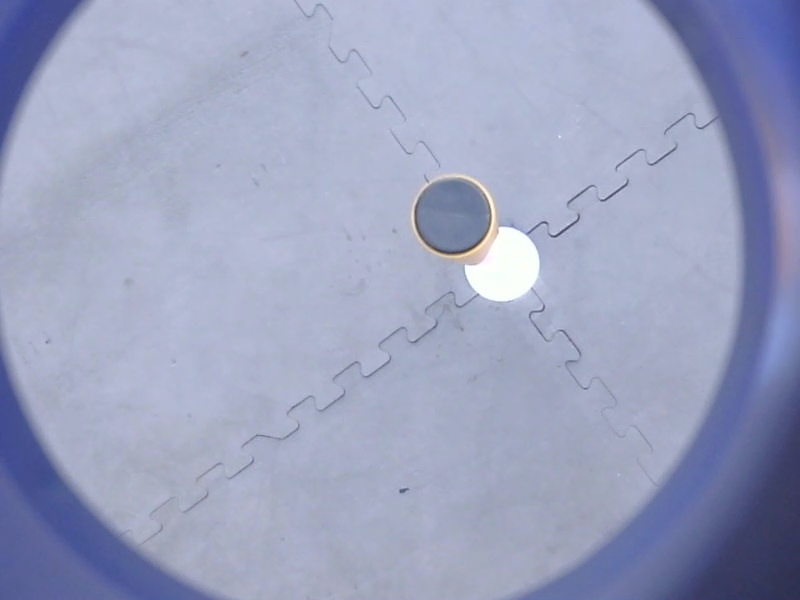tip: (404, 170, 501, 265)
